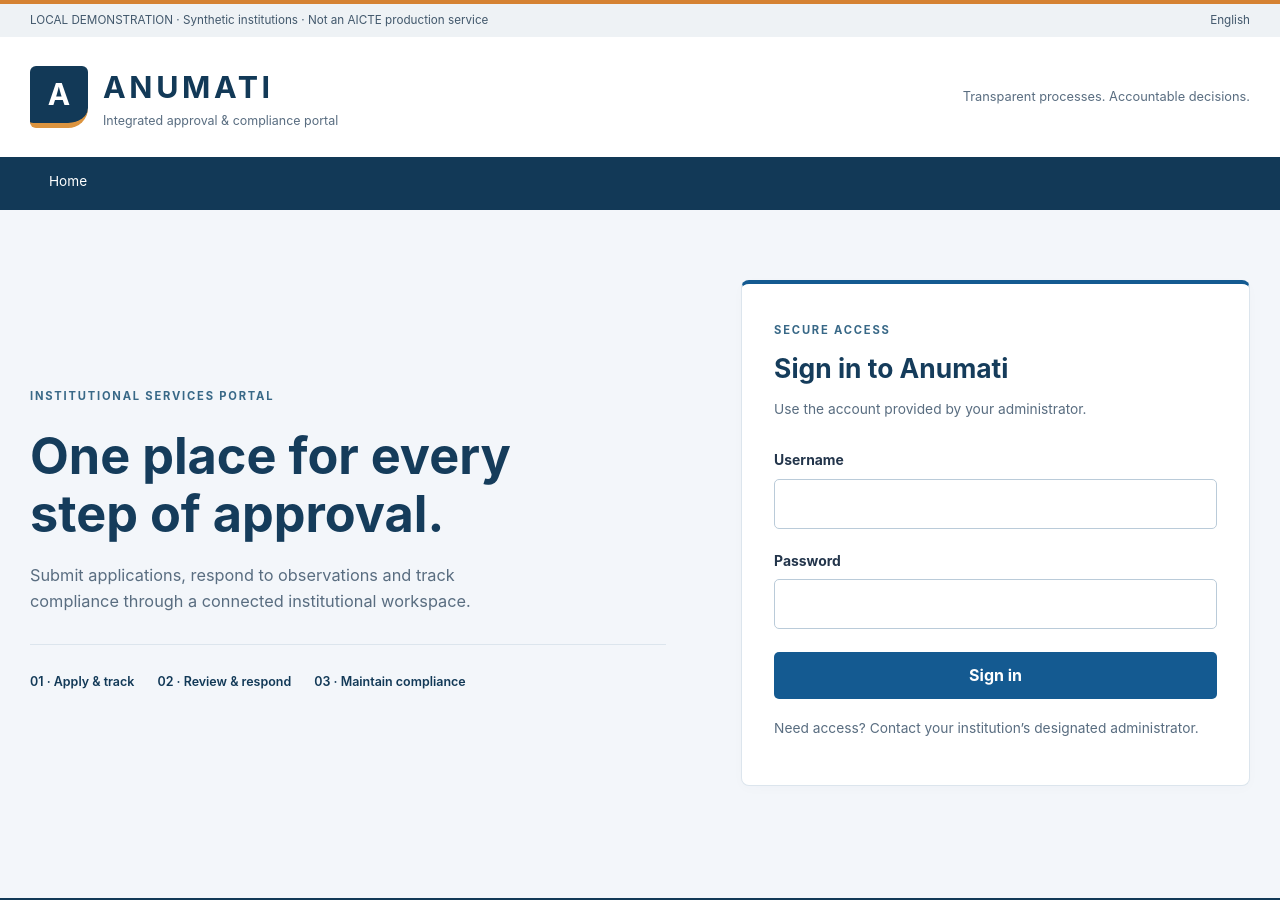
Test: submits credentials with a CSRF bootstrap and reads server roles
The image size is (1280, 900).
Type "auditor" into the field labelled "Username" at (996,504), box [774,479,1217,529]
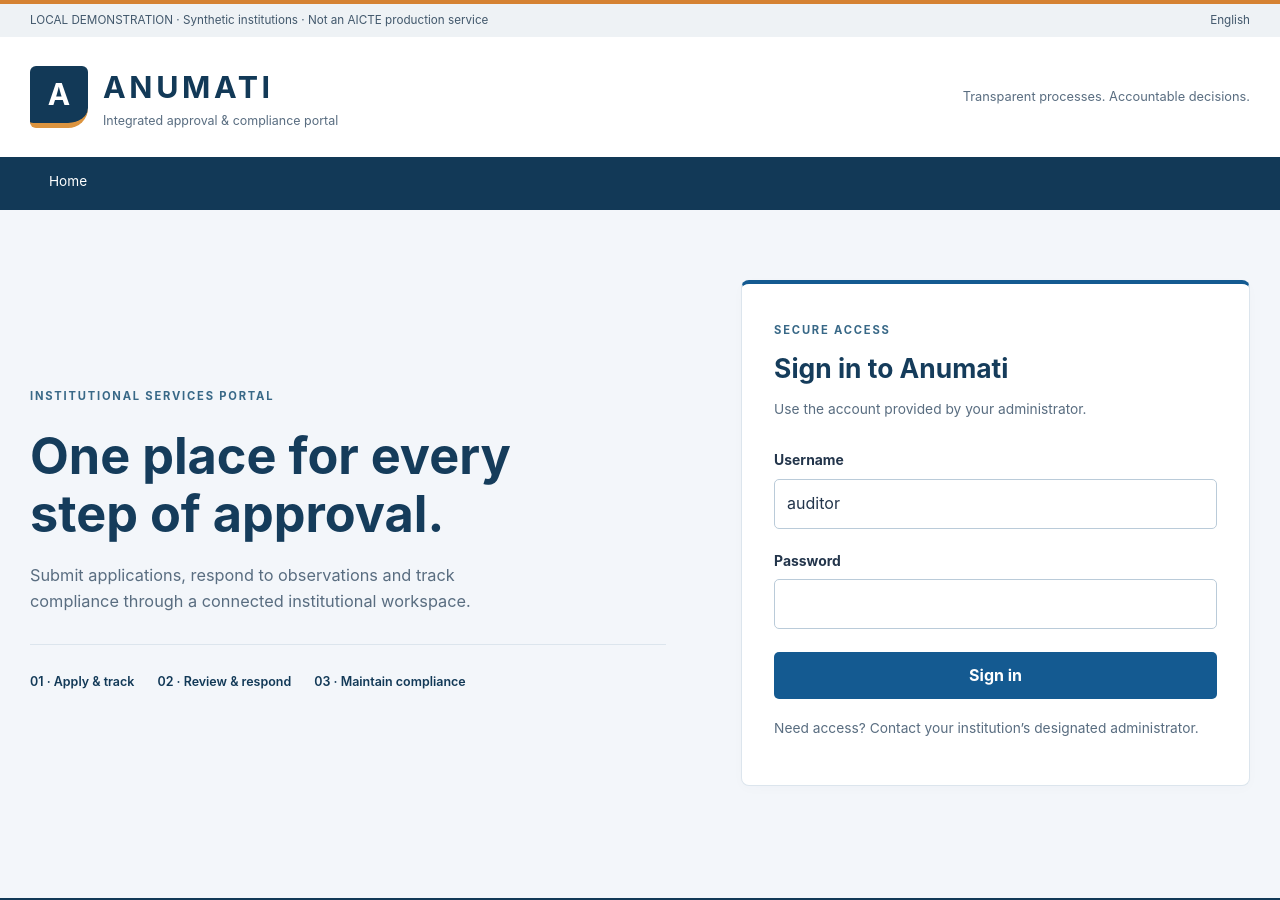
Type "secret" into the password field labelled "Password" at (996,604), box [774,579,1217,629]
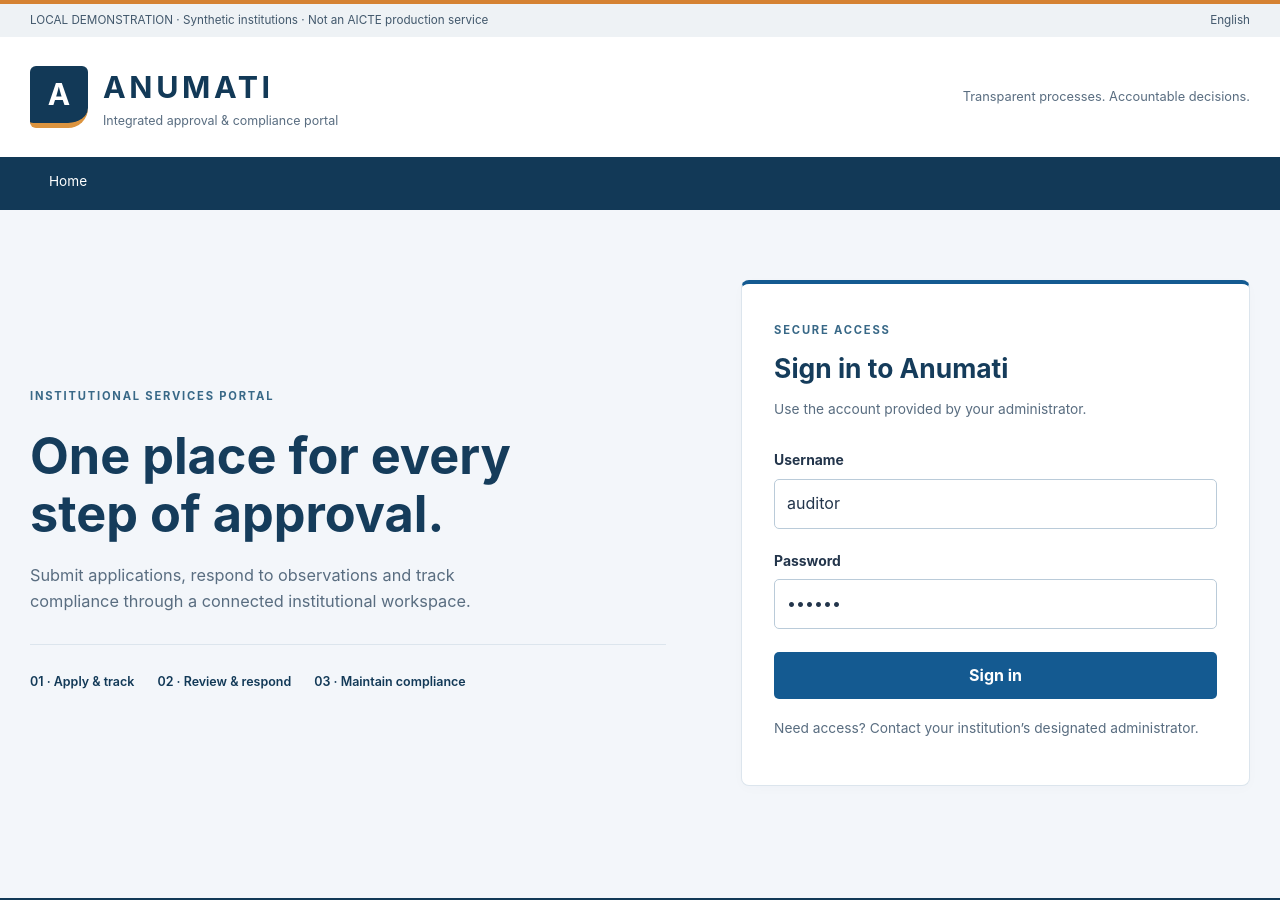
Click the button "Sign in" at (996,676), box [774,652,1217,699]
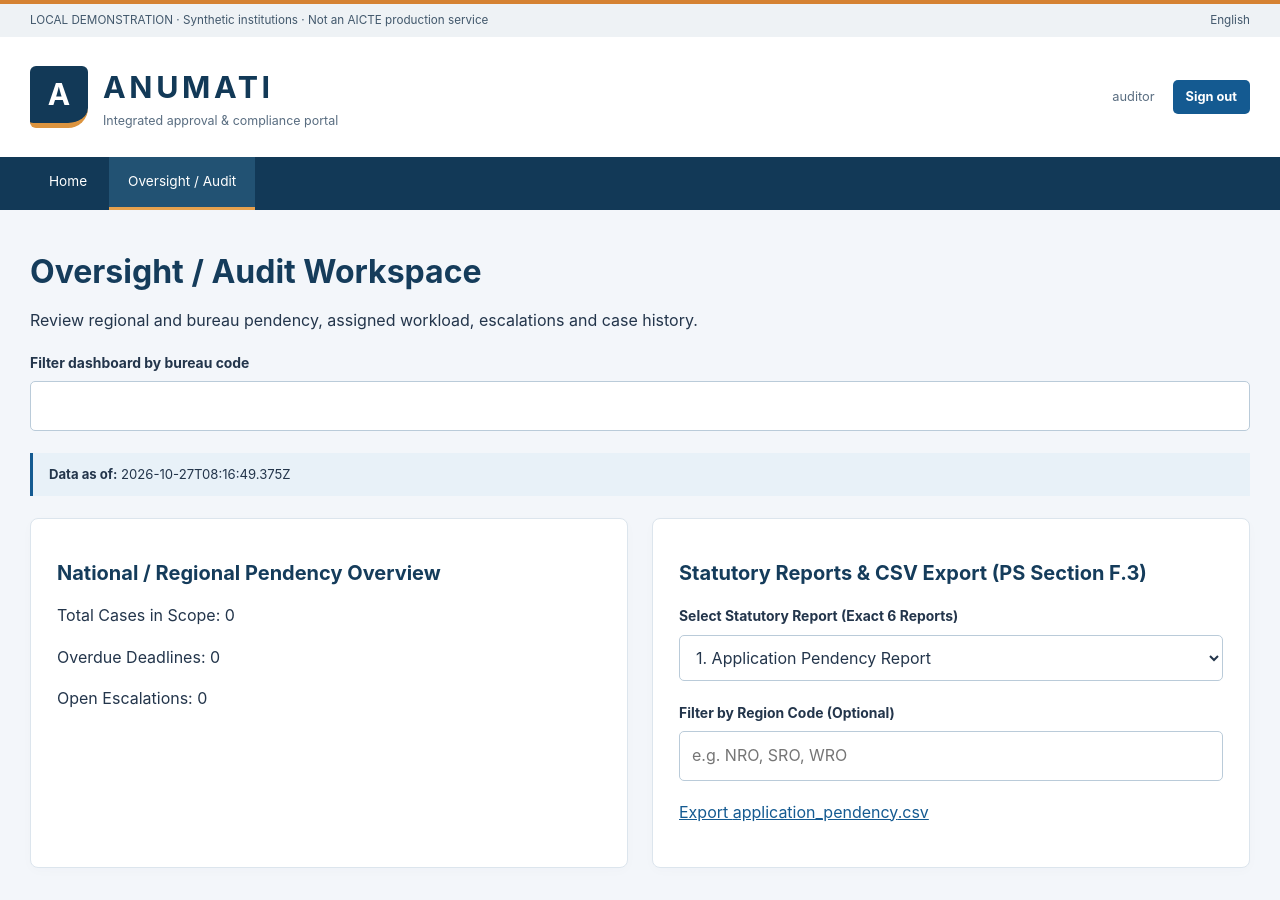
Result: the heading "Oversight / Audit Workspace" is shown at [30,252,482,291]
